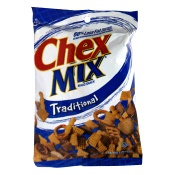grozi_2: (31, 7, 143, 168)
